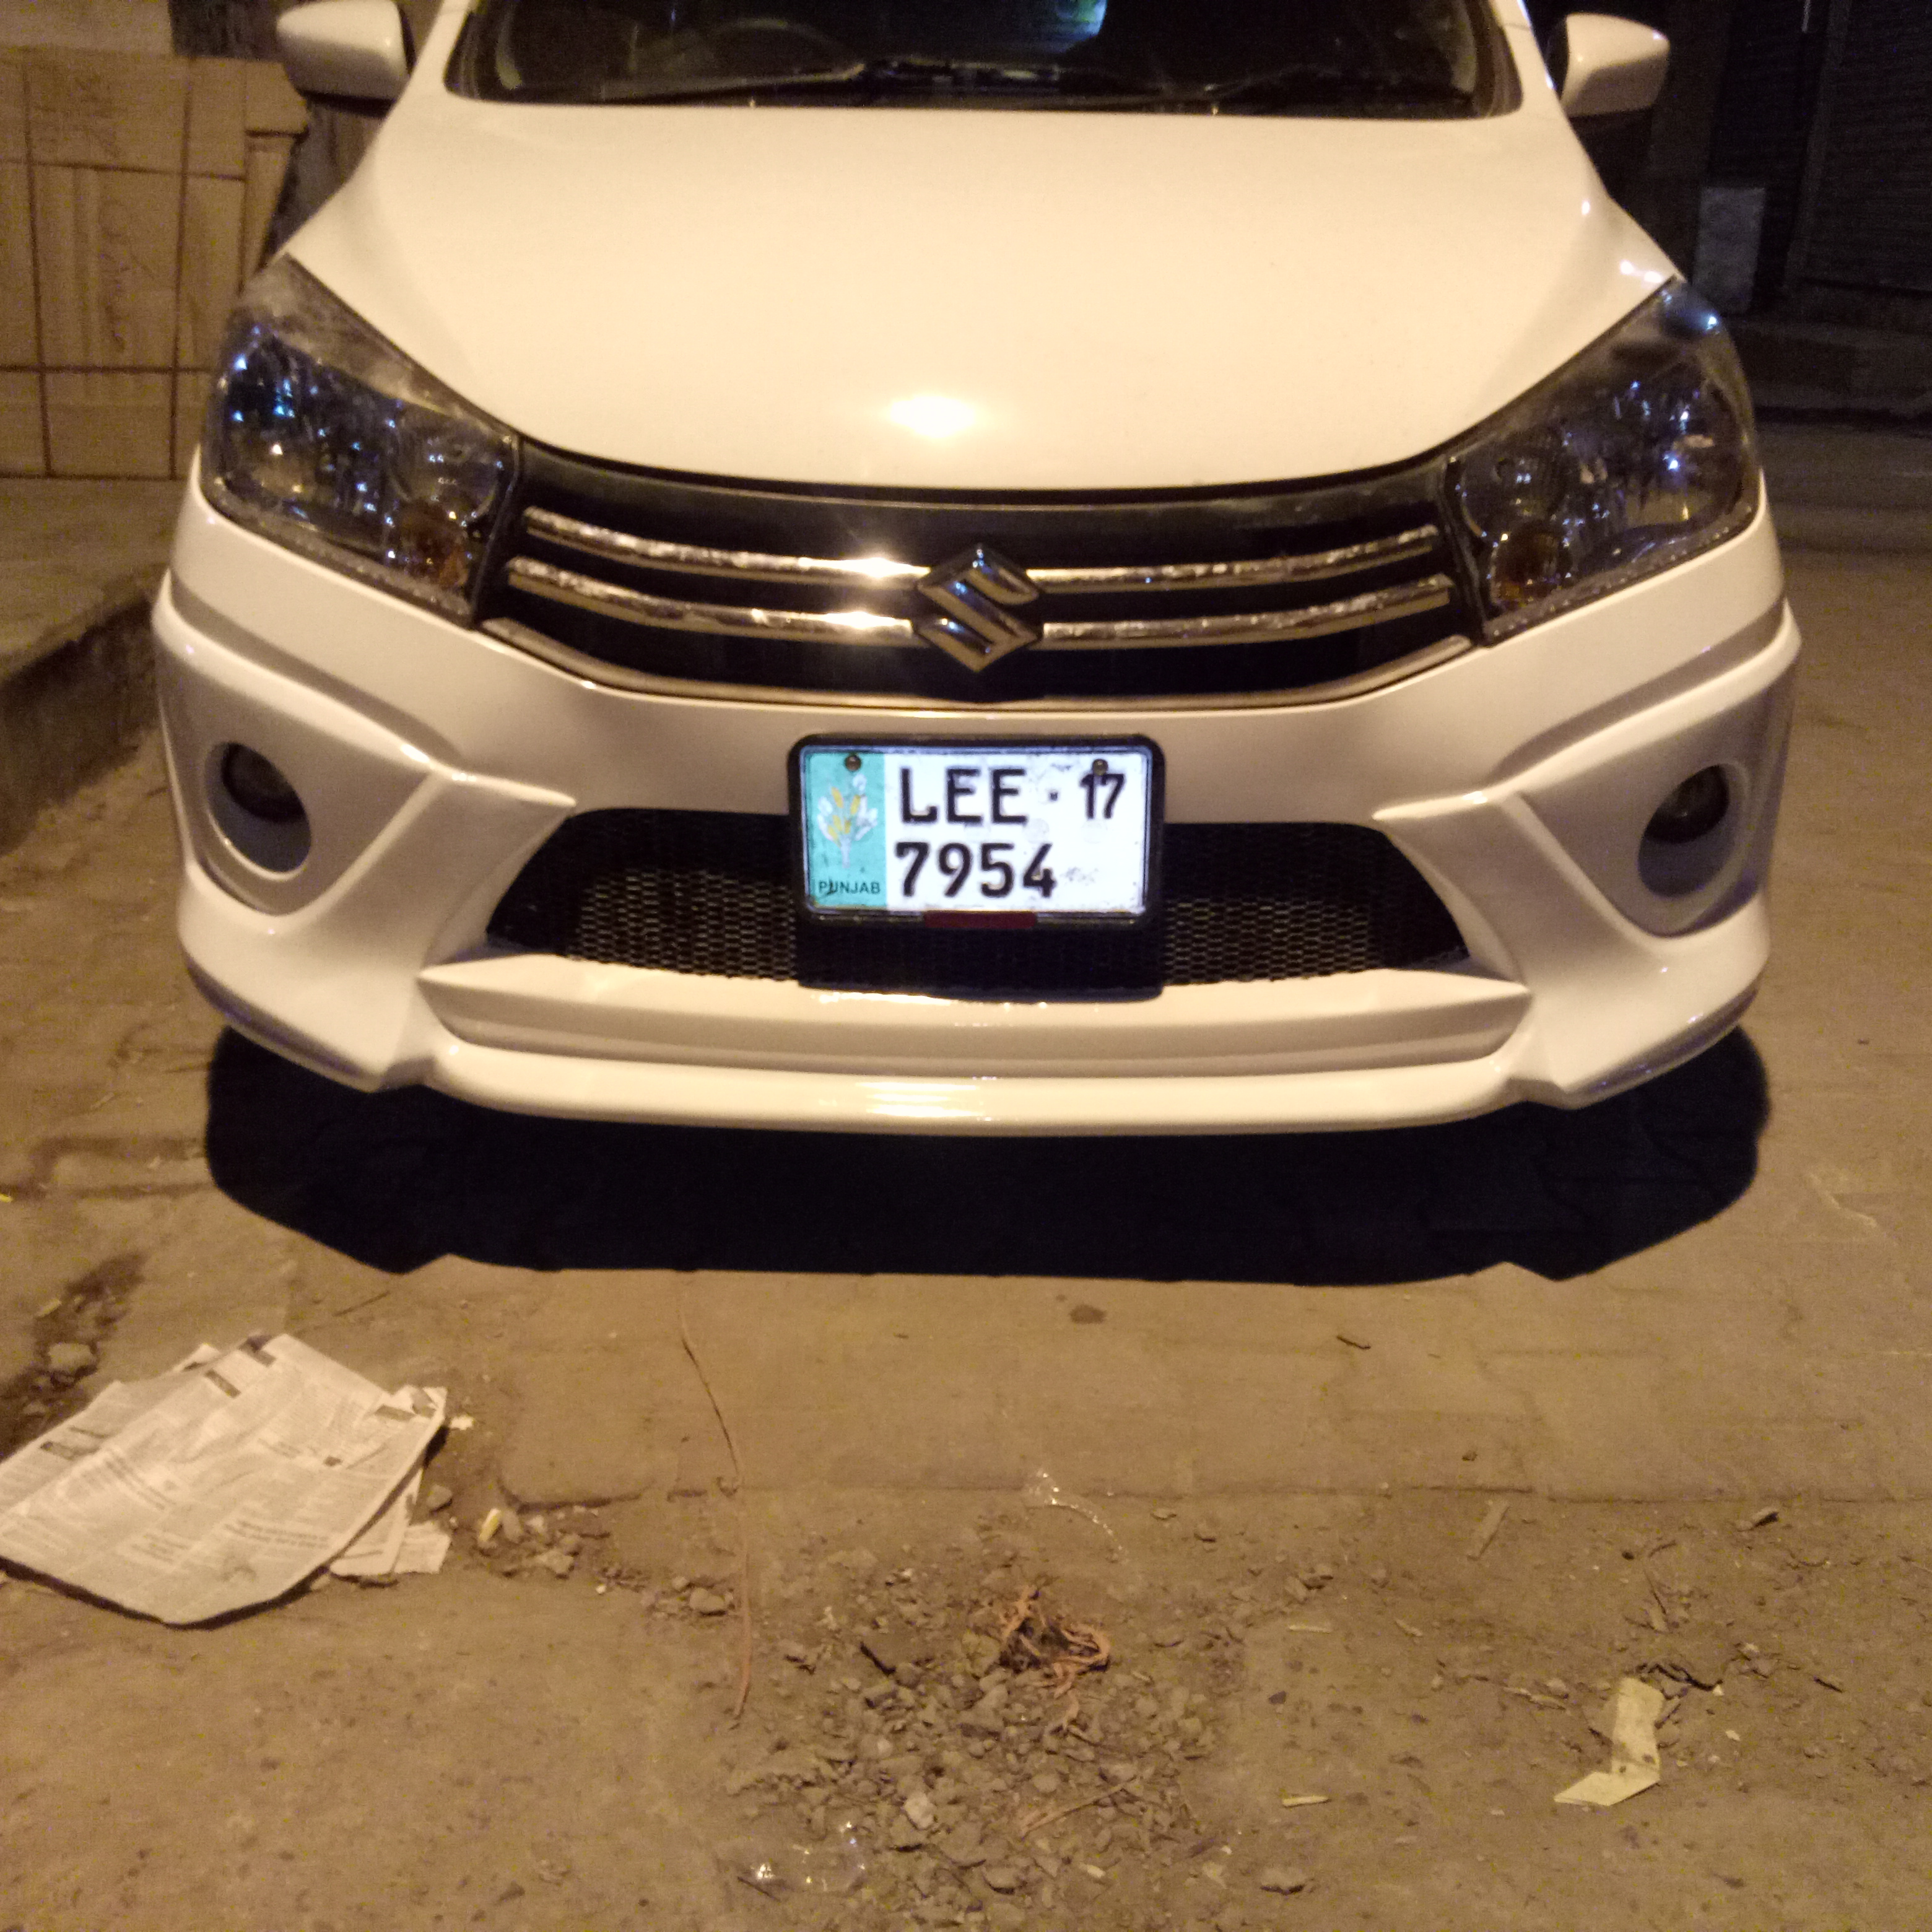plate: (781, 724, 1173, 957)
